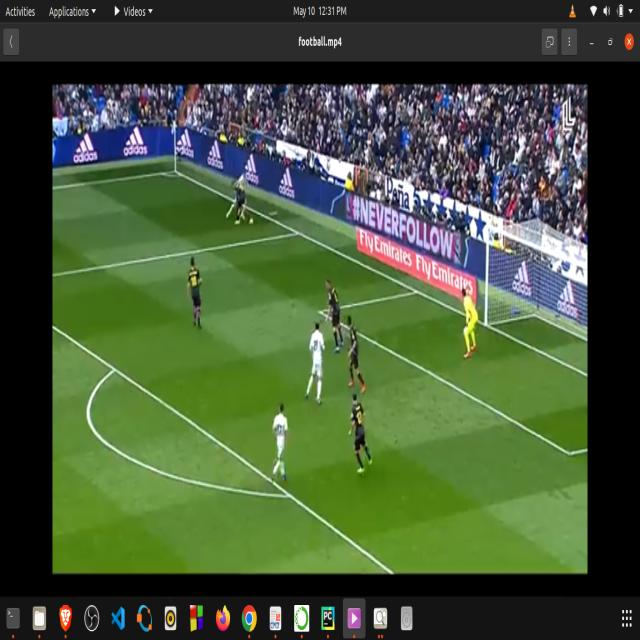Ball: (248, 215, 256, 231)
Goalkeeper: (458, 282, 482, 368)
football-players: (267, 396, 299, 495), (301, 316, 329, 417), (184, 249, 214, 338), (344, 312, 373, 396), (348, 392, 376, 477), (320, 276, 346, 357), (227, 162, 247, 234)
